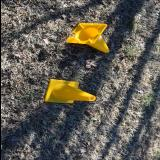cone: (65, 24, 108, 54), (44, 79, 96, 103)
